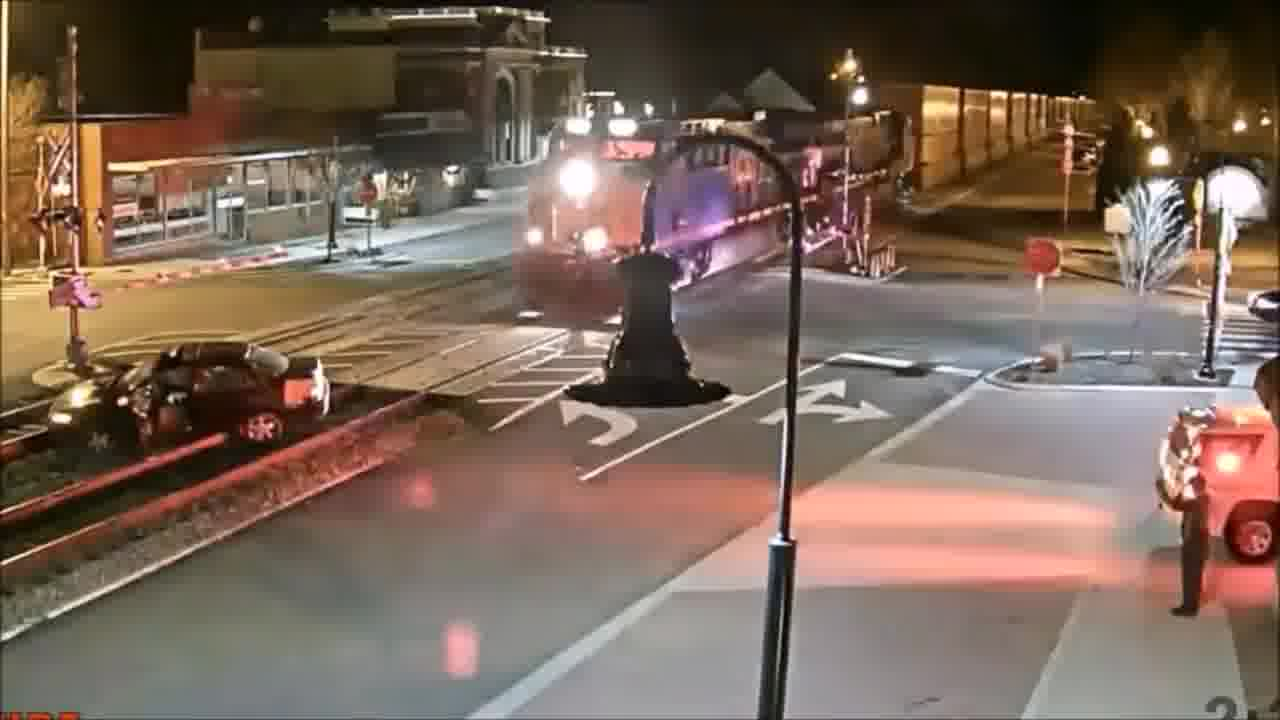crossing railway track: (36, 340, 342, 463)
